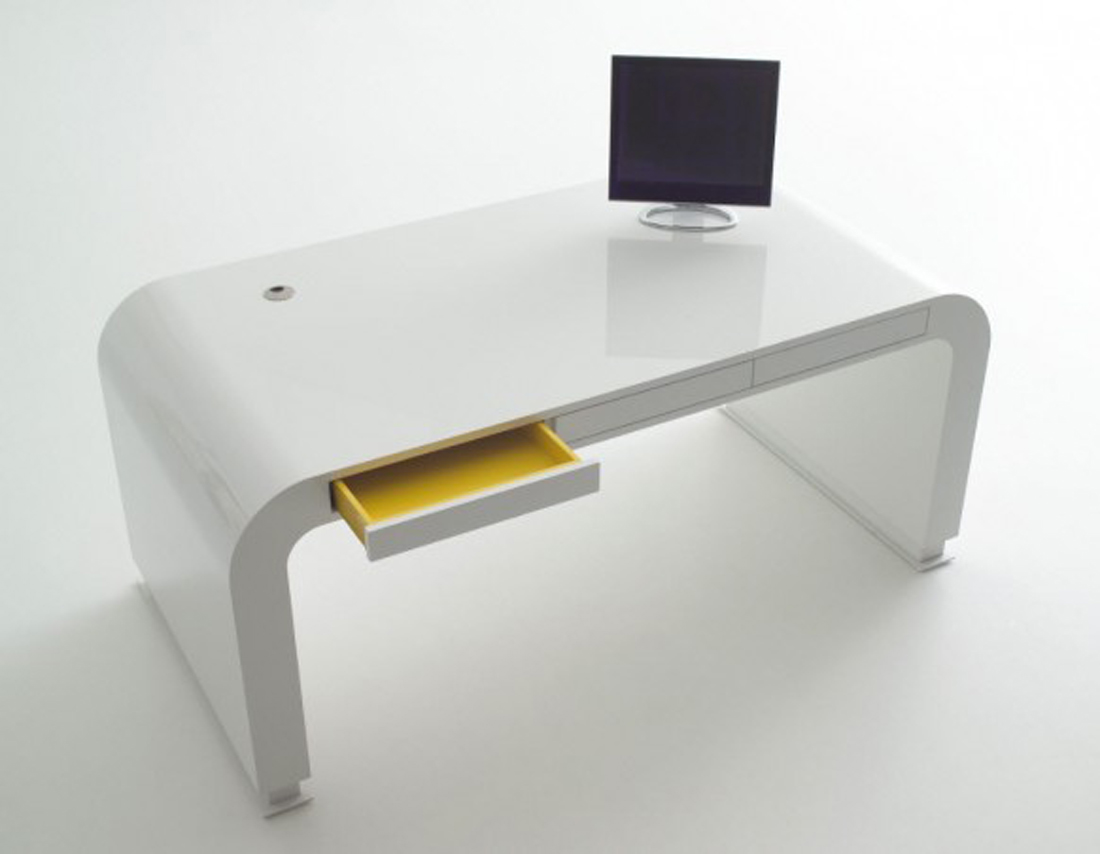not a gesture sign: (98, 184, 989, 812)
